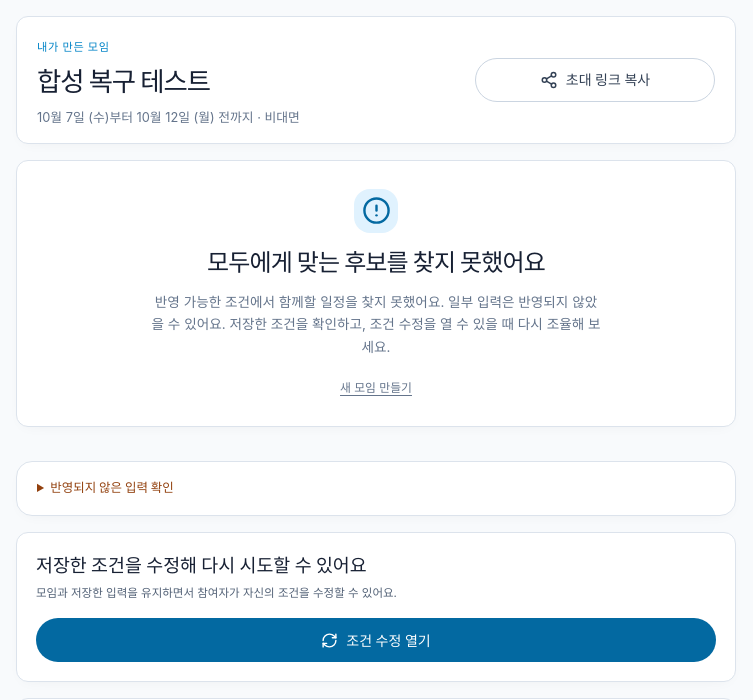
Test: correction contracts and same-room recovery › opens one round from the exact active analysis/generation without saving or analyzing
This screenshot has width=753, height=700.
Click the button "조건 수정 열기": (376,640) [36, 618, 716, 662]
(page scrolled)
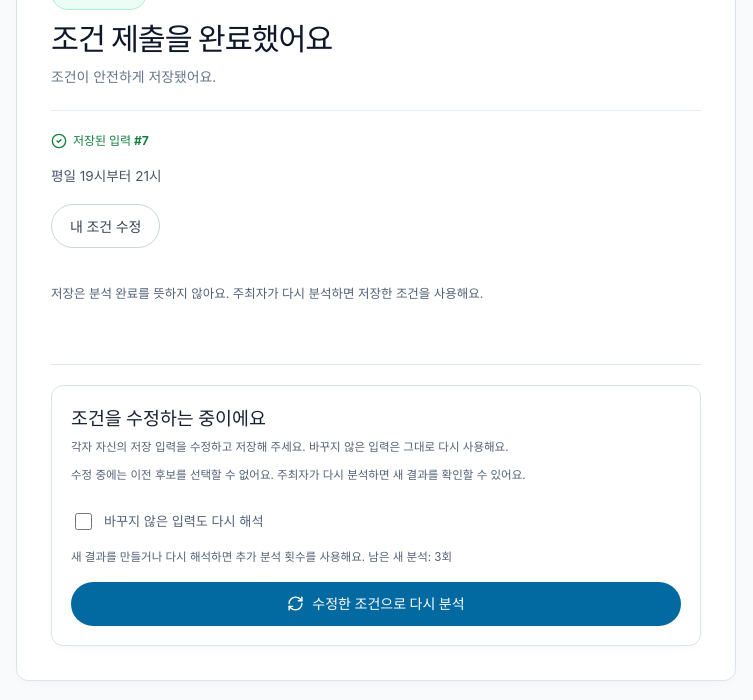
Expected: the button "수정한 조건으로 다시 분석" is shown, [71, 582, 681, 626]
